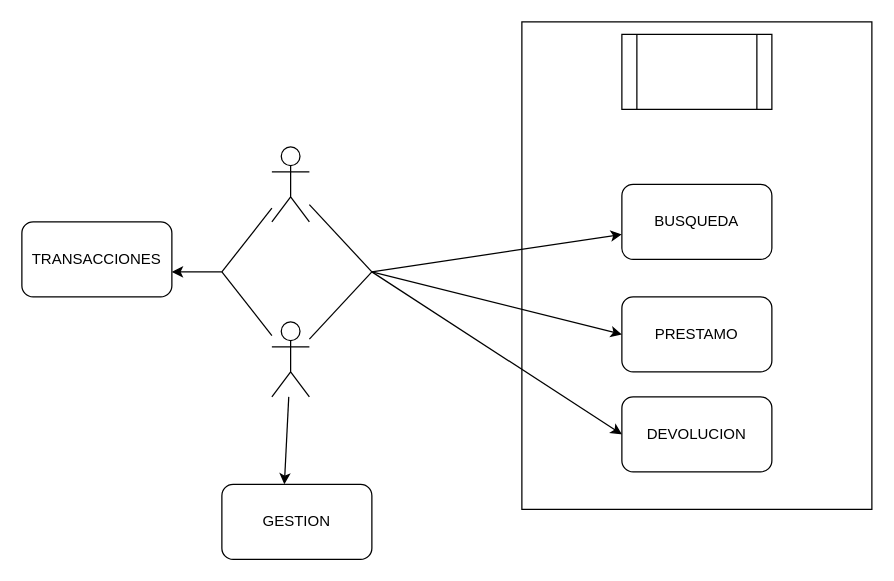
Image size: 894x581. Some labels were removed from this diagram. Here are the shapes that lost their labels. From the top down, the centre of each, then its label:
(x=696, y=71): LIBROS
(x=290, y=184): CLIENTE
(x=290, y=359): ADMINISTRADOR
